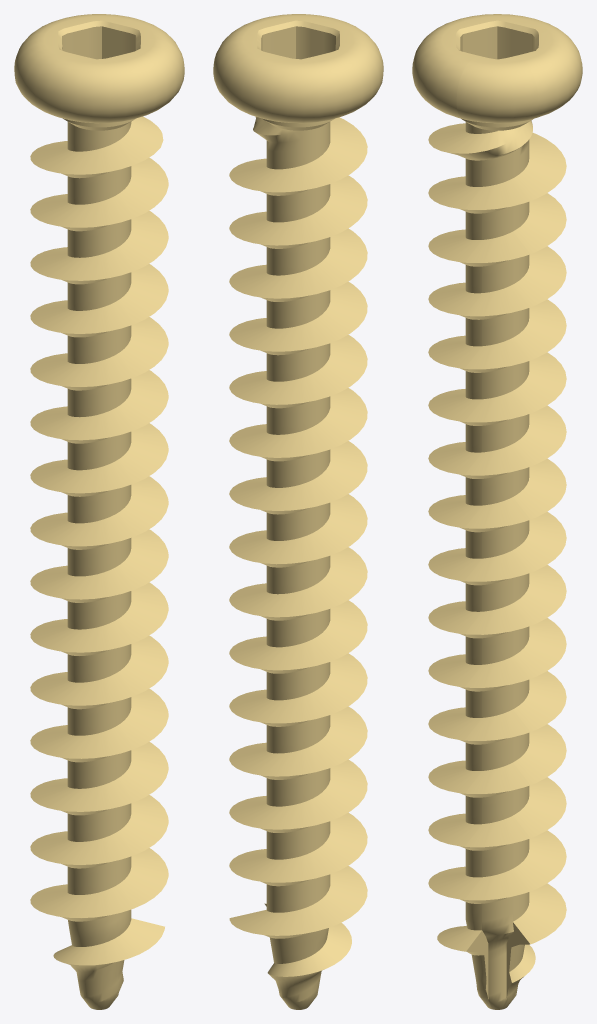
Rendered from os38_cancellous_full_6p5x50_lod1.glb.
3 renders of one model, left to right at view 1: azimuth 30°, elevation 25°; view 2: azimuth 150°, elevation 25°; view 3: azimuth 270°, elevation 25°, orthographic.
Parts seen in each view (by area): view 1: os38_cancellous_full_6p5x50; view 2: os38_cancellous_full_6p5x50; view 3: os38_cancellous_full_6p5x50.
Part boxes in pixels (x1=…): os38_cancellous_full_6p5x50: x1=14, y1=14, x2=184, y2=1009; os38_cancellous_full_6p5x50: x1=213, y1=14, x2=383, y2=1009; os38_cancellous_full_6p5x50: x1=412, y1=14, x2=582, y2=1009.
Size of the model in its own units: 0.008 by 0.05 by 0.008.
